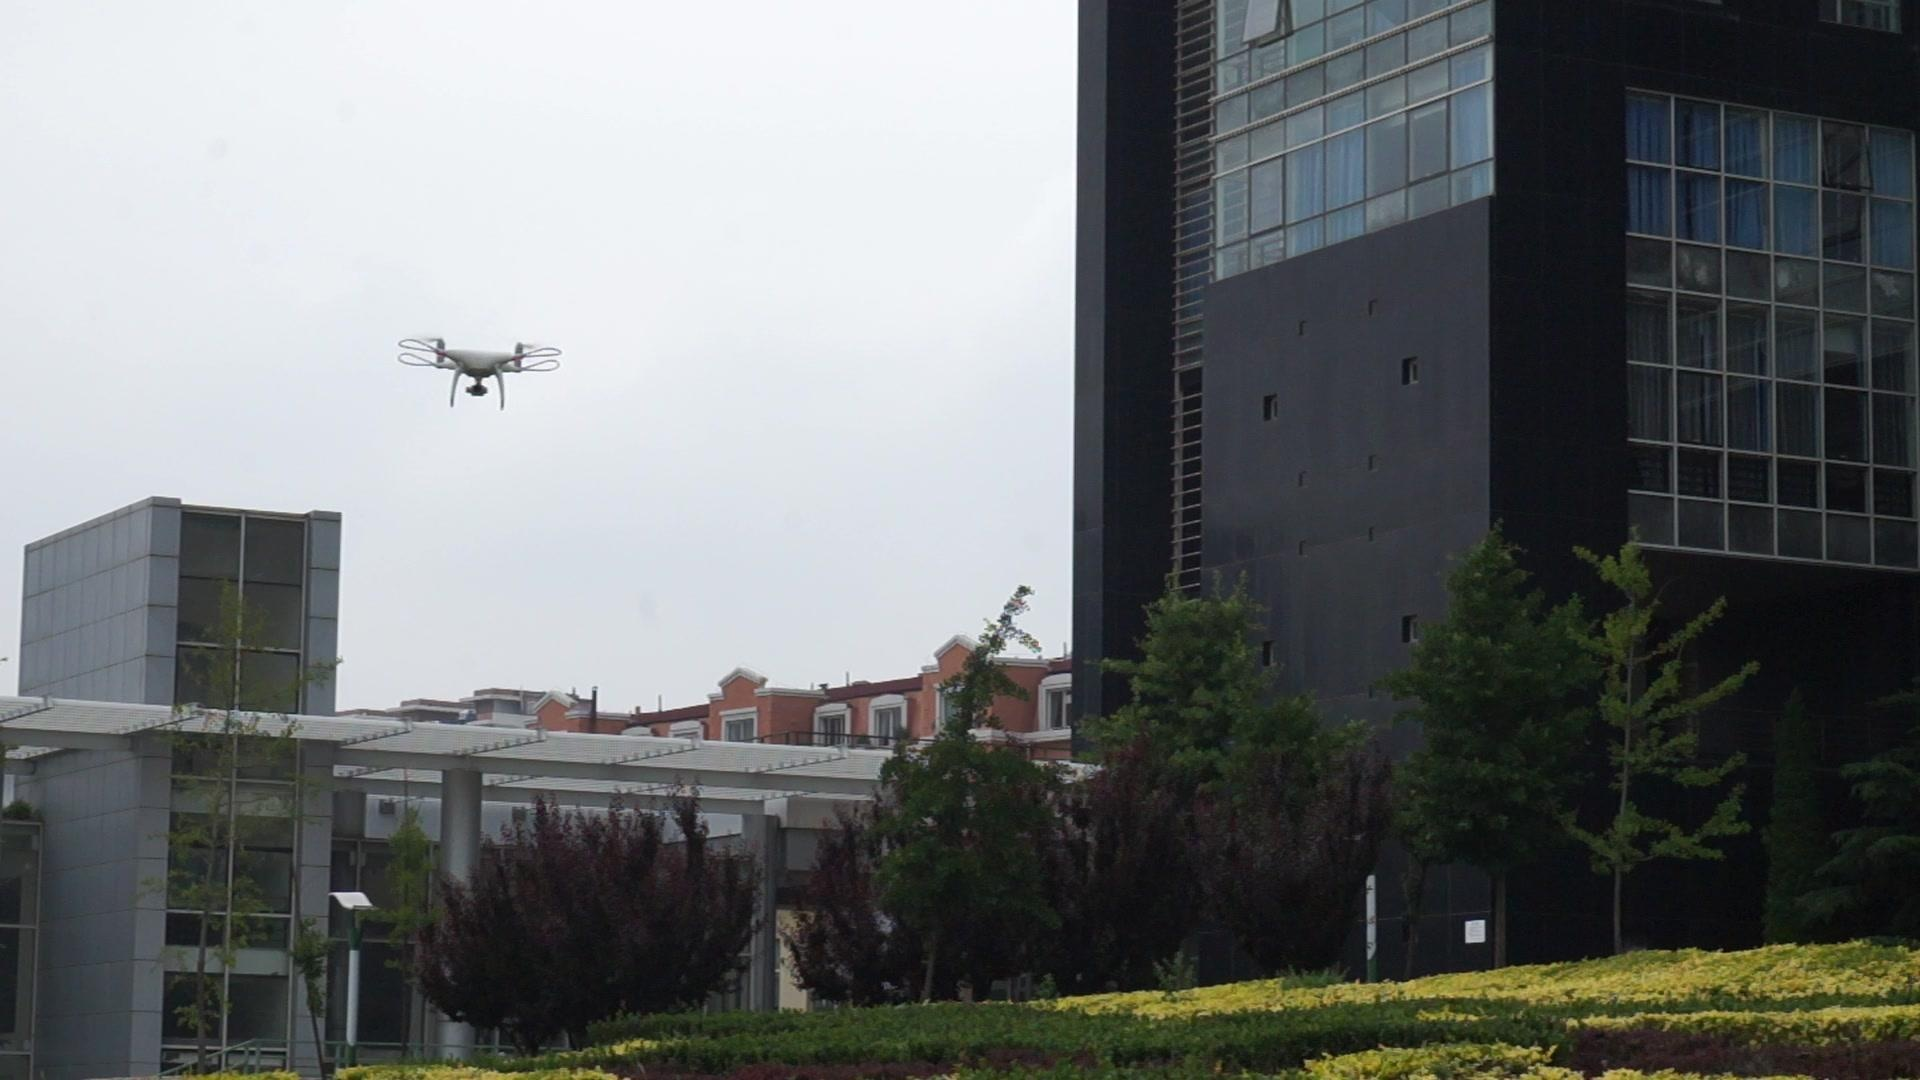UAV: (398, 338, 562, 410)
